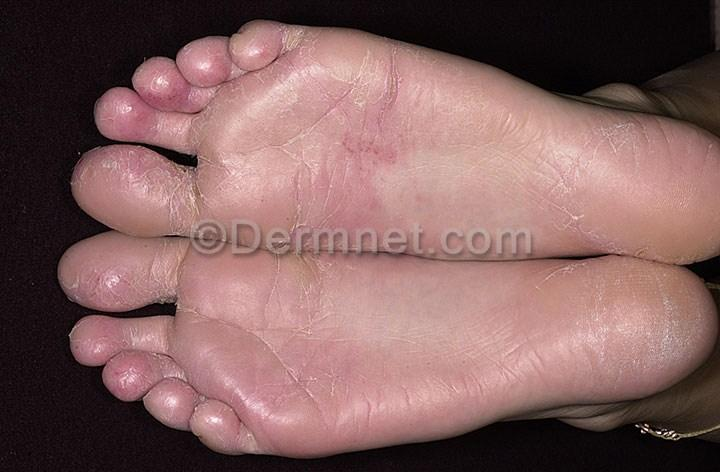Eczema: (89, 156, 186, 202), (331, 114, 398, 179), (66, 274, 139, 300), (138, 84, 193, 112), (108, 355, 147, 393)
